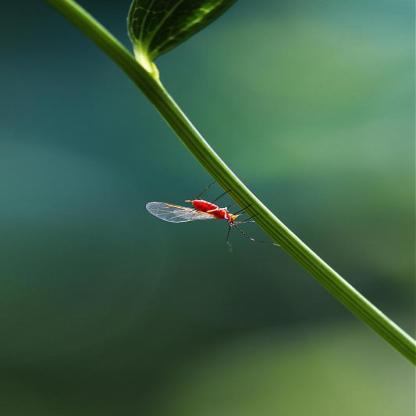aphid: (128, 179, 268, 255)
